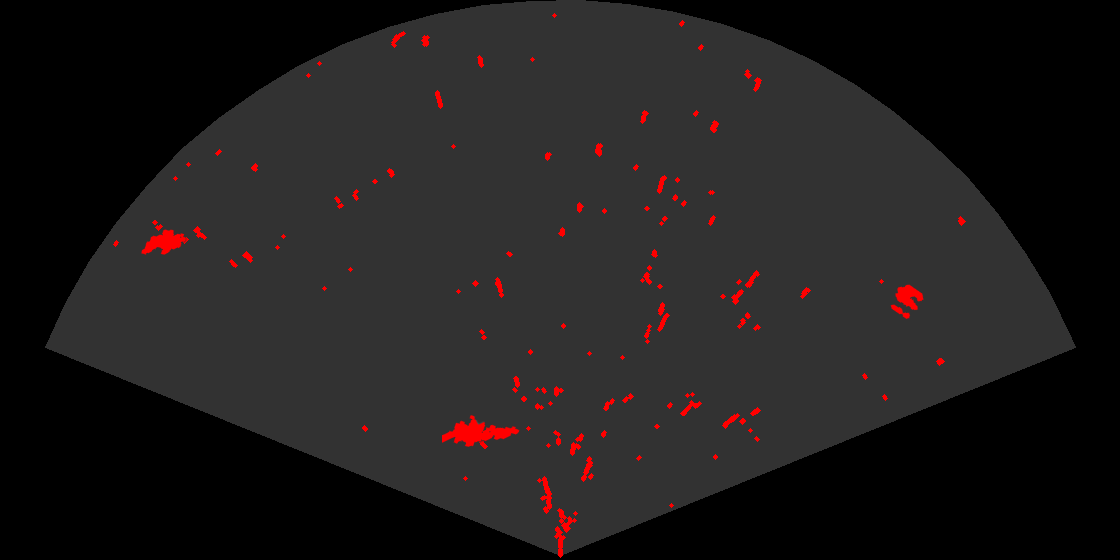AUV: (140, 228, 187, 256)
ball: (889, 283, 925, 321)
frogman: (442, 413, 521, 448)
